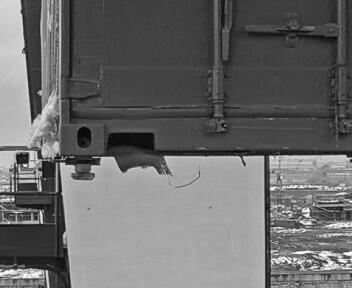twist_lock_1: (59, 151, 106, 188)
